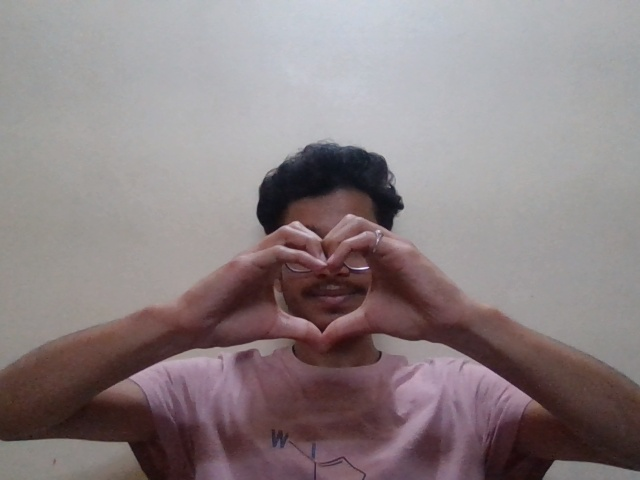silent-voice: (235, 207, 417, 390)
